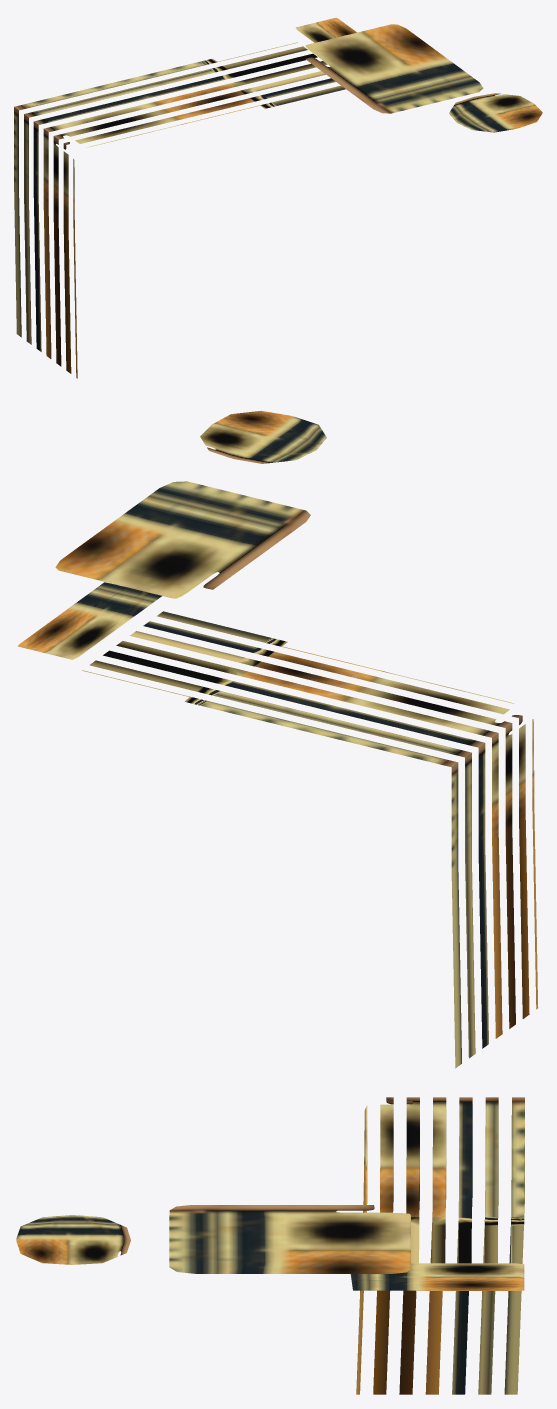
File: farmstead_water.dae
The picture shows the model from 3 angles, top to bottom: view 1: azimuth 30°, elevation 25°; view 2: azimuth 150°, elevation 25°; view 3: azimuth 270°, elevation 25°; orthographic projection. The views are drawn at different scales.
Parts seen in each view (by area): view 1: numi_farmstead_water; view 2: numi_farmstead_water; view 3: numi_farmstead_water.
Part boxes in pixels (x1,y1,x2,y2): numi_farmstead_water: (14,17,542,378); numi_farmstead_water: (18,410,538,1068); numi_farmstead_water: (16,1097,524,1394).
Bounding box in the file's own units: 15.76 × 15.65 × 11.58.
